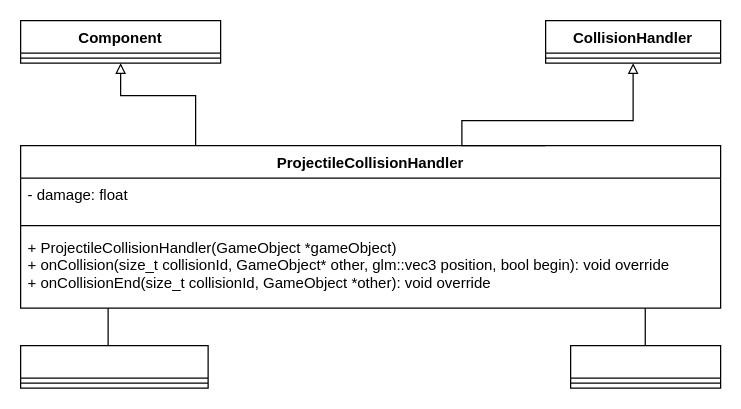
The diagram is 741 pixels wide and 409 high, and some of its shapes have lost their labels. Each missing label, with the box of its shape:
EnemyComponent: (569, 344, 721, 388)
RigidBodyComponent: (19, 344, 208, 388)
